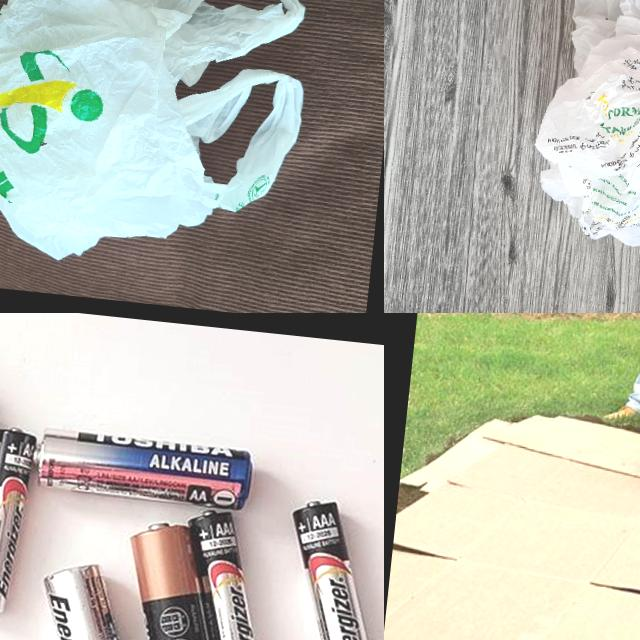bateria: (30, 424, 256, 512), (109, 515, 248, 640), (274, 496, 384, 640), (170, 506, 283, 640), (23, 558, 176, 640), (0, 420, 38, 616)
papelão: (384, 397, 640, 640)
sacola plástica: (0, 0, 318, 281), (518, 0, 640, 282)
